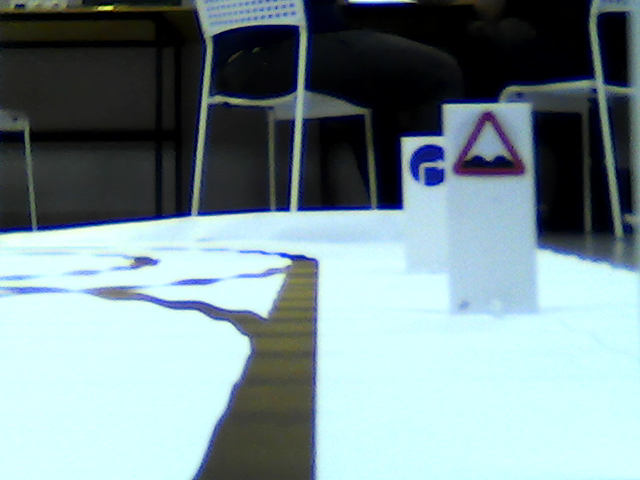Nerov: (451, 109, 526, 174)
Right: (407, 142, 445, 185)
